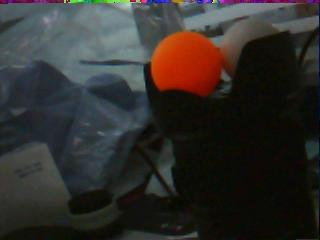oball: (151, 31, 219, 95)
